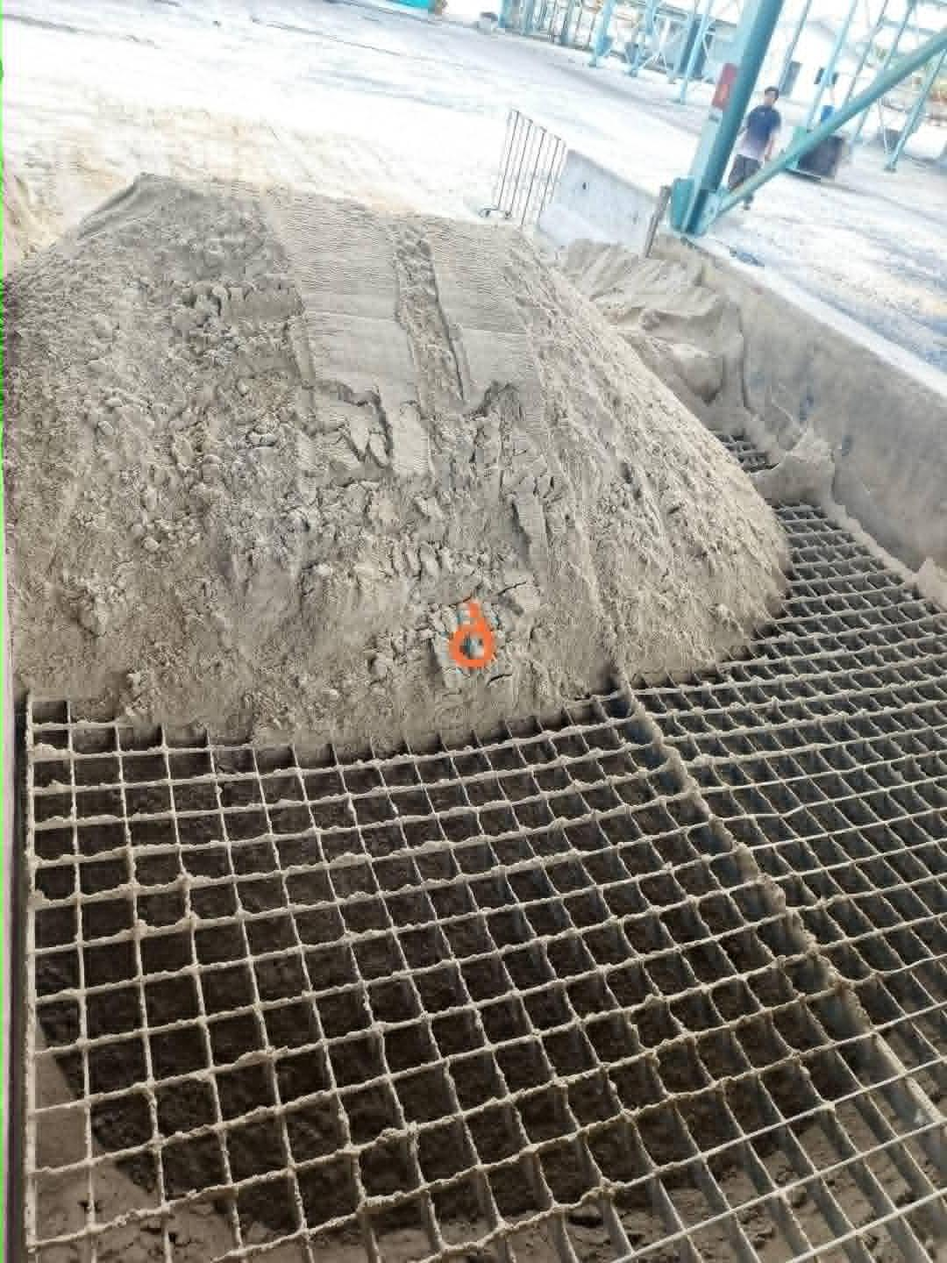sand: (6, 177, 786, 745), (560, 241, 747, 430), (3, 158, 50, 274)
